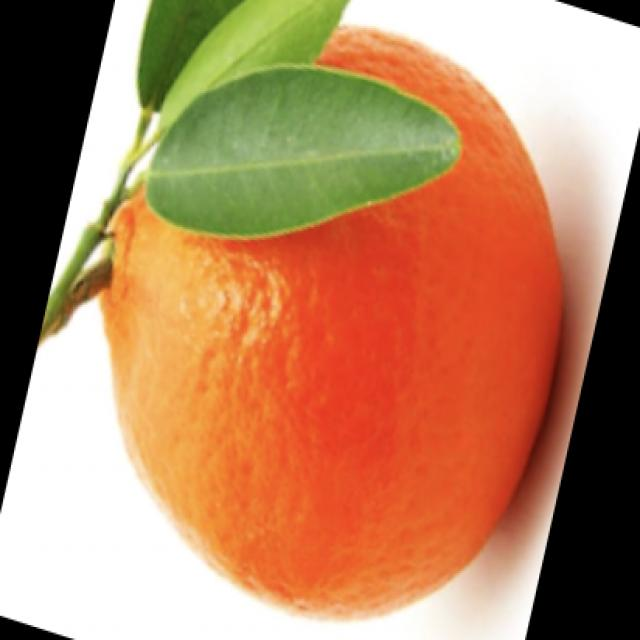fresh: (22, 0, 579, 631)
